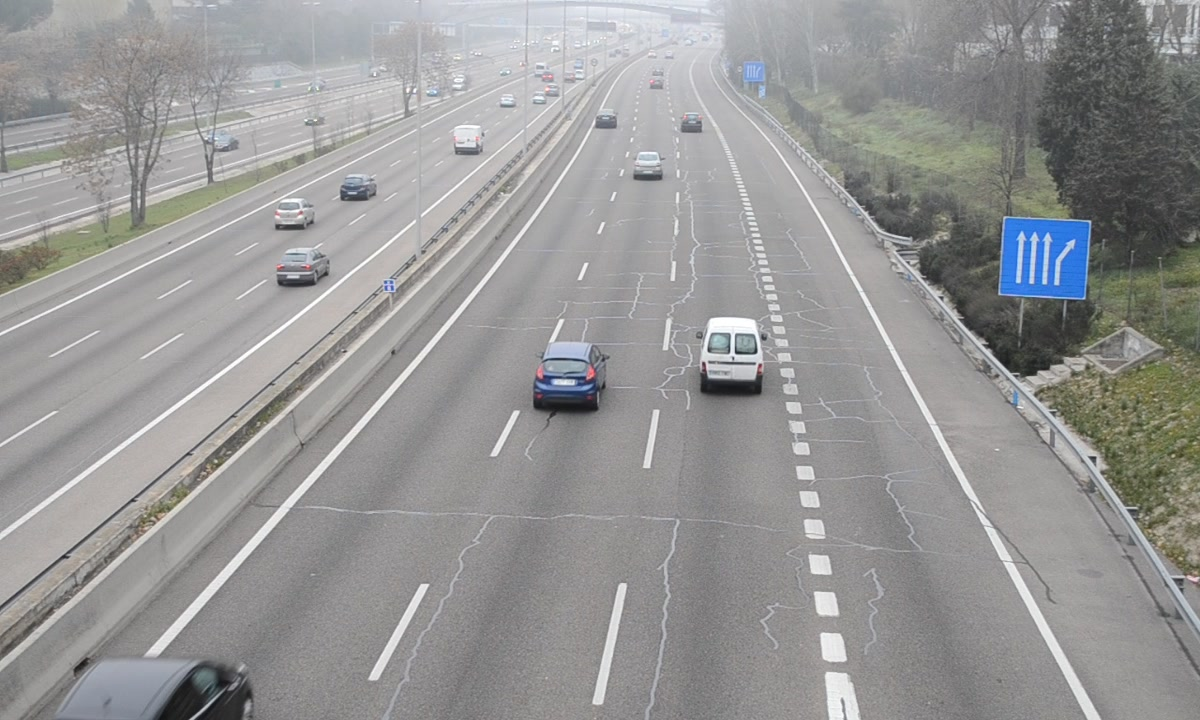car: (534, 342, 606, 404), (633, 152, 663, 179), (594, 105, 618, 130), (680, 112, 703, 133)
van: (700, 317, 763, 393)
